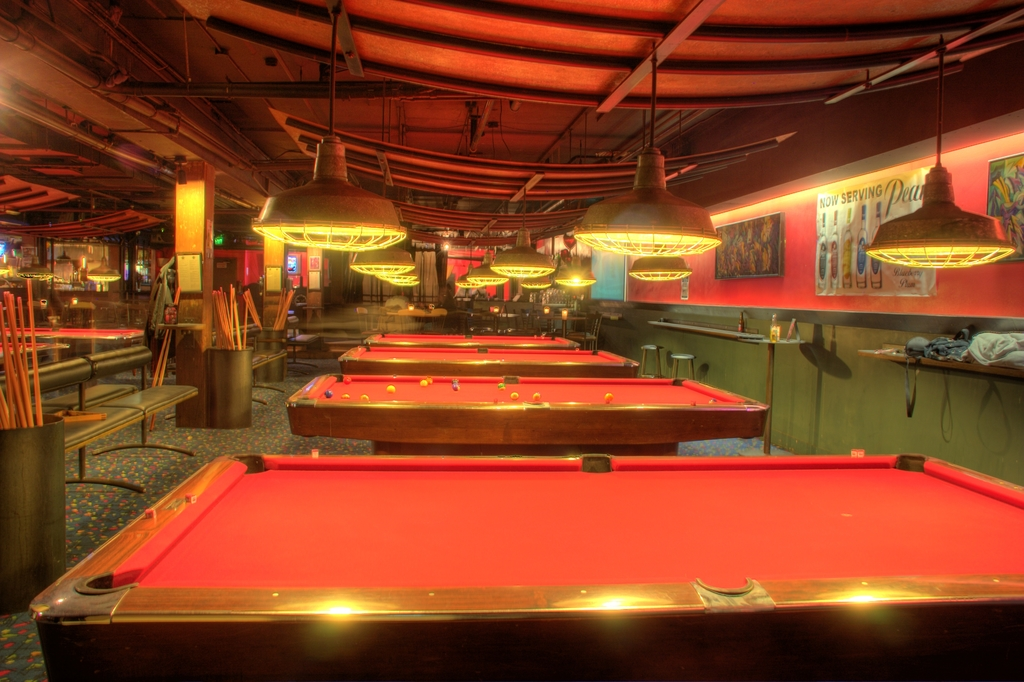Ball: (493, 378, 508, 387), (530, 393, 546, 401), (358, 393, 371, 402), (602, 393, 614, 402), (324, 389, 334, 398), (386, 384, 396, 393), (510, 392, 519, 398)
